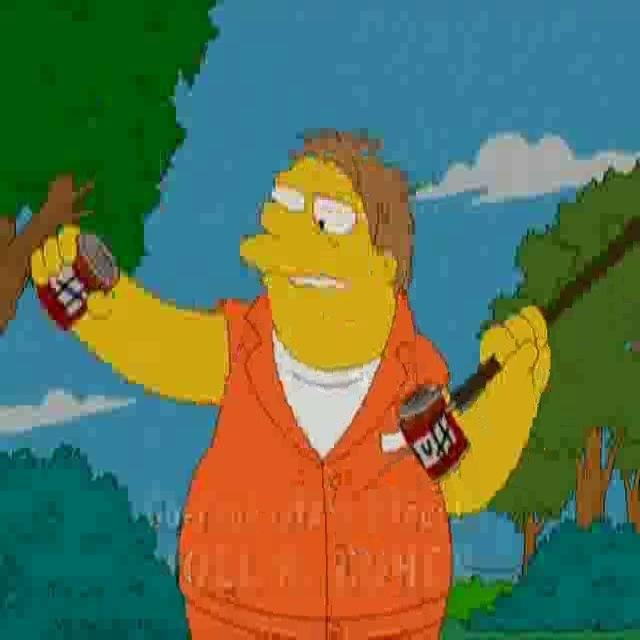Barney Gumble: (240, 133, 420, 371)
